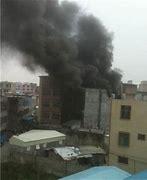smoke: (1, 1, 120, 89)
